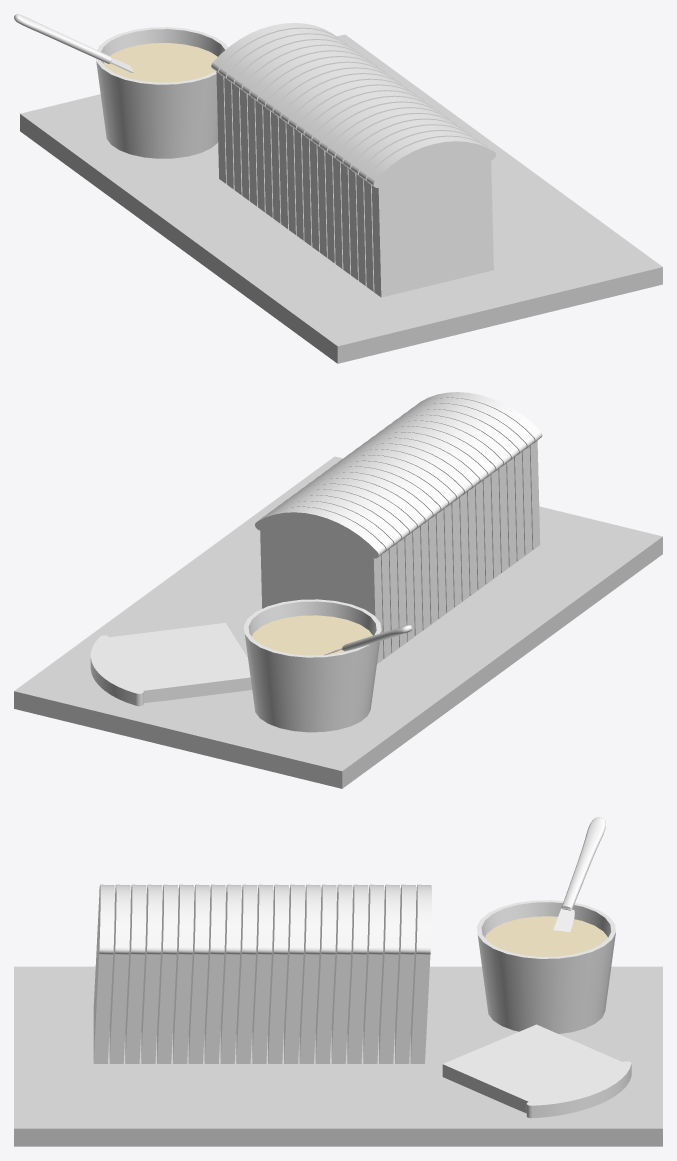
3 views of the same model, one above another, from view 1: azimuth 30°, elevation 25°; view 2: azimuth 150°, elevation 25°; view 3: azimuth 270°, elevation 25° (orthographic). The views are drawn at different scales.
Visible parts, largest first — view 1: Layer0_001, Group_041, Group_045, Group_037, Group_011, Group_029, Group_019, Group_003, Group_035, Group_017, Group_009, Group_005 (+12 smaller); view 2: Layer0_001, Group_045, Group_001, Group_043, Group_035, Group_021, Group_011, Group_037, Group_025, Group_023, Group_013, Group_039 (+13 smaller); view 3: Layer0_001, Group_045, Group_043, Group_041, Group_011, Group_025, Group_027, Group_039, Group_029, Group_013, Group_009, Group_015 (+13 smaller).
Boxes of the visible parts, bbox=[...] form: Layer0_001: bbox=[20, 34, 662, 363]; Group_041: bbox=[366, 136, 495, 297]; Group_045: bbox=[96, 27, 227, 158]; Group_037: bbox=[351, 125, 479, 285]; Group_011: bbox=[250, 51, 377, 212]; Group_029: bbox=[320, 102, 448, 263]; Group_019: bbox=[281, 74, 409, 234]; Group_003: bbox=[219, 28, 347, 189]; Group_035: bbox=[343, 119, 471, 280]; Group_017: bbox=[273, 68, 401, 229]; Group_009: bbox=[242, 45, 370, 206]; Group_005: bbox=[227, 34, 355, 195]; Layer0_001: bbox=[14, 456, 662, 788]; Group_045: bbox=[244, 599, 381, 732]; Group_001: bbox=[255, 506, 385, 663]; Group_043: bbox=[90, 623, 252, 706]; Group_035: bbox=[391, 409, 518, 567]; Group_021: bbox=[336, 449, 463, 607]; Group_011: bbox=[298, 478, 424, 635]; Group_037: bbox=[399, 403, 526, 561]; Group_025: bbox=[352, 438, 479, 595]; Group_023: bbox=[344, 443, 471, 601]; Group_013: bbox=[305, 472, 432, 630]; Group_039: bbox=[407, 397, 534, 555]; Layer0_001: bbox=[14, 966, 662, 1146]; Group_045: bbox=[476, 900, 615, 1033]; Group_043: bbox=[442, 1024, 631, 1118]; Group_041: bbox=[93, 884, 114, 1063]; Group_011: bbox=[331, 884, 352, 1063]; Group_025: bbox=[220, 884, 241, 1063]; Group_027: bbox=[204, 884, 225, 1063]; Group_039: bbox=[109, 884, 130, 1063]; Group_029: bbox=[188, 884, 209, 1063]; Group_013: bbox=[315, 884, 336, 1063]; Group_009: bbox=[347, 884, 368, 1063]; Group_015: bbox=[299, 884, 320, 1063].
Bounding box in the file's own units: 11.4 × 4.66 × 17.32.
